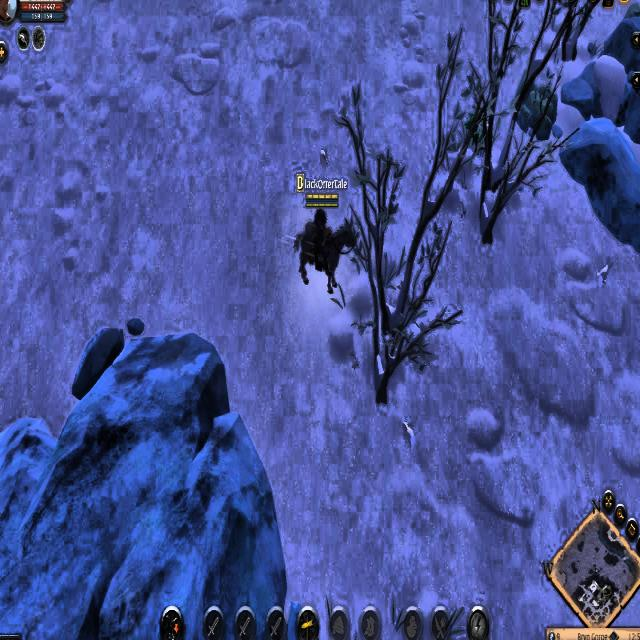sandstone: (514, 67, 559, 143)
